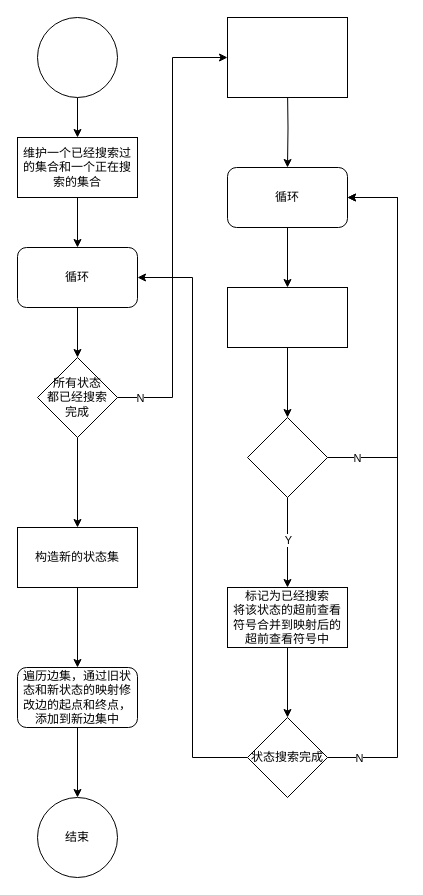
The diagram is 423 pixels wide and 895 high, and some of its shapes have lost their labels. The shapes that lost their labels are listed below. From the top down, each one's centre as x and y in pixels, then its label:
pixel 77 57: 开始
pixel 287 57: 找到第一个未被搜索的状态，添加到正在搜索集合中，在映射中添加从自己到自己的一个映射
pixel 287 317: 遍历未被搜索的状态
pixel 287 457: 和当前 正在搜索状态的核心 相同
